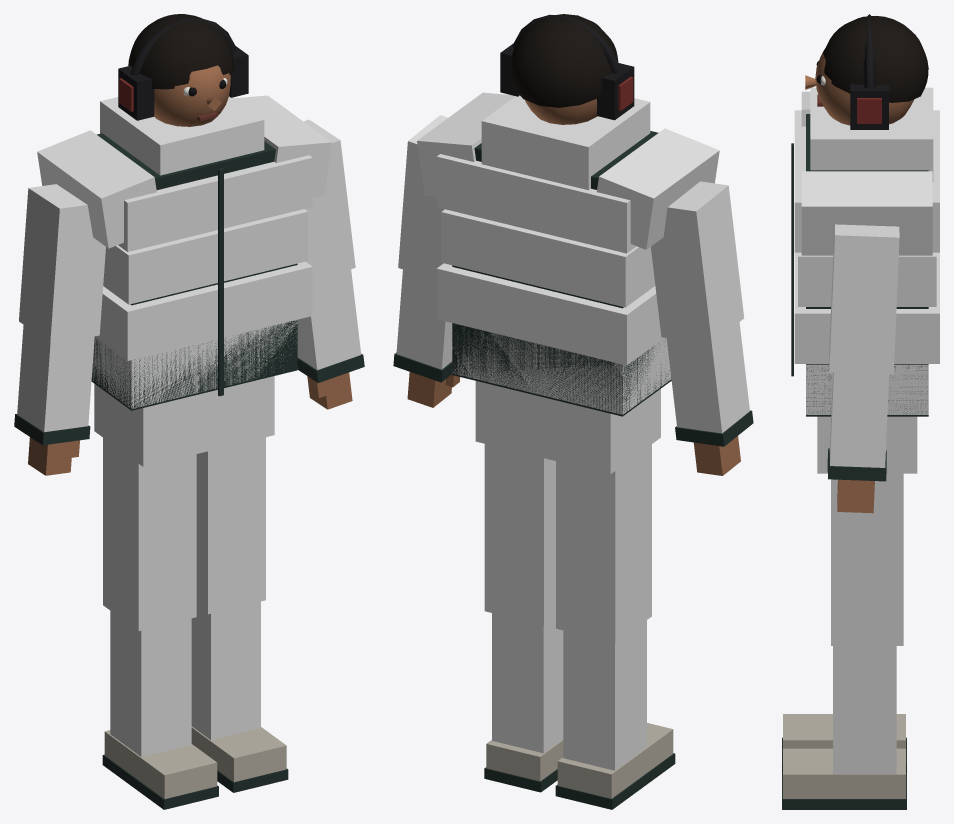
File: NPC_puffer.fbx
3 views of the same model, side by side, from view 1: azimuth 30°, elevation 25°; view 2: azimuth 150°, elevation 25°; view 3: azimuth 270°, elevation 25° (orthographic). The views are drawn at different scales.
Parts seen in each view (by area): view 1: Body_Cloth_557a70, Body_Cloth_3a4456, Arm_R_Cloth_557a70, Body_Mat_23332f, Arm_L_Cloth_557a70, Body_Mat_b9b3a6, Head_Hair.014, Head_Skin.014, Head_Mat_19191c, Arm_R_Skin.005, Arm_L_Skin.006, Arm_R_Mat_23332f (+1 smaller); view 2: Body_Cloth_557a70, Body_Cloth_3a4456, Arm_R_Cloth_557a70, Body_Mat_23332f, Arm_L_Cloth_557a70, Head_Hair.014, Body_Mat_b9b3a6, Head_Mat_19191c, Arm_R_Skin.005, Arm_L_Skin.006, Head_Skin.014, Arm_R_Mat_23332f (+1 smaller); view 3: Body_Cloth_557a70, Body_Cloth_3a4456, Arm_L_Cloth_557a70, Body_Mat_b9b3a6, Head_Hair.014, Body_Mat_23332f, Head_Skin.014, Head_Mat_19191c, Arm_L_Skin.006, Arm_L_Mat_23332f, Head_Mat_7c2e2a.
Boxes of the visible parts, bbox=[...] form: Body_Cloth_557a70: bbox=[37, 95, 331, 408]; Body_Cloth_3a4456: bbox=[94, 376, 274, 756]; Arm_R_Cloth_557a70: bbox=[17, 184, 105, 432]; Body_Mat_23332f: bbox=[91, 133, 297, 809]; Arm_L_Cloth_557a70: bbox=[297, 119, 361, 370]; Body_Mat_b9b3a6: bbox=[104, 726, 286, 798]; Head_Hair.014: bbox=[128, 14, 233, 89]; Head_Skin.014: bbox=[154, 65, 230, 126]; Head_Mat_19191c: bbox=[118, 18, 248, 120]; Arm_R_Skin.005: bbox=[28, 437, 79, 475]; Arm_L_Skin.006: bbox=[307, 372, 352, 409]; Arm_R_Mat_23332f: bbox=[14, 414, 90, 445]; Body_Cloth_557a70: bbox=[417, 92, 719, 414]; Body_Cloth_3a4456: bbox=[475, 381, 660, 770]; Arm_R_Cloth_557a70: bbox=[651, 181, 749, 433]; Body_Mat_23332f: bbox=[452, 131, 675, 809]; Arm_L_Cloth_557a70: bbox=[396, 115, 452, 369]; Head_Hair.014: bbox=[510, 14, 618, 107]; Body_Mat_b9b3a6: bbox=[486, 723, 673, 798]; Head_Mat_19191c: bbox=[500, 14, 634, 120]; Arm_R_Skin.005: bbox=[693, 436, 740, 475]; Arm_L_Skin.006: bbox=[407, 372, 460, 407]; Head_Skin.014: bbox=[525, 99, 597, 124]; Arm_R_Mat_23332f: bbox=[675, 410, 753, 446]; Body_Cloth_557a70: bbox=[794, 87, 939, 414]; Body_Cloth_3a4456: bbox=[817, 416, 917, 774]; Arm_L_Cloth_557a70: bbox=[829, 224, 899, 467]; Body_Mat_b9b3a6: bbox=[783, 714, 905, 798]; Head_Hair.014: bbox=[823, 16, 928, 102]; Body_Mat_23332f: bbox=[782, 114, 928, 809]; Head_Skin.014: bbox=[805, 49, 913, 125]; Head_Mat_19191c: bbox=[850, 14, 888, 129]; Arm_L_Skin.006: bbox=[837, 479, 874, 513]; Arm_L_Mat_23332f: bbox=[827, 448, 886, 481]; Head_Mat_7c2e2a: bbox=[857, 98, 881, 123].
Bounding box in the file's own units: 0.8347 × 1.84 × 0.3475.
